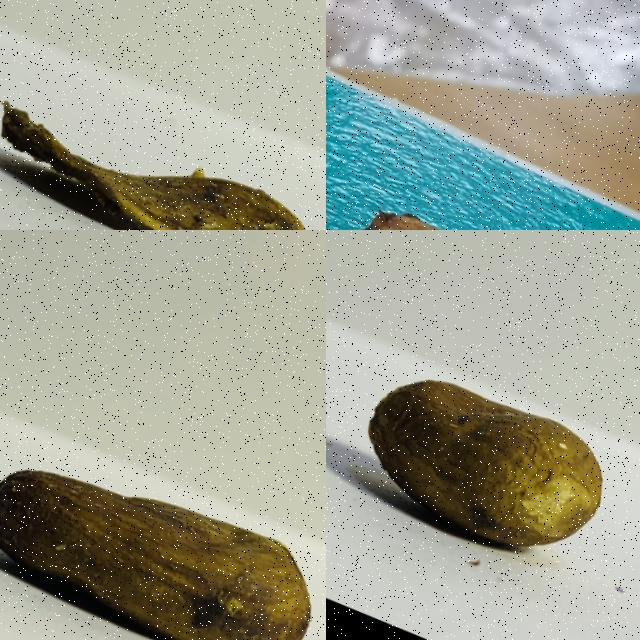Fine_cocoabeans: (326, 306, 639, 633), (0, 383, 325, 639)
Flat_cocoabeans: (0, 14, 325, 229), (326, 104, 639, 229)
